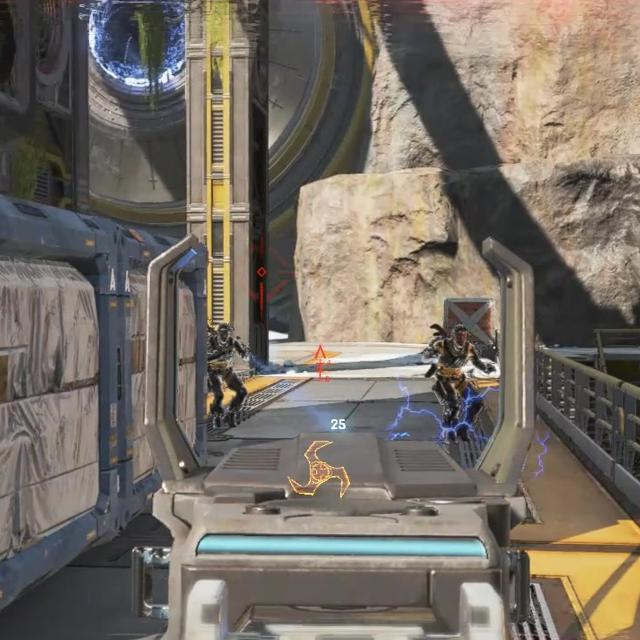avatar: (421, 324, 497, 437), (208, 320, 248, 431)
